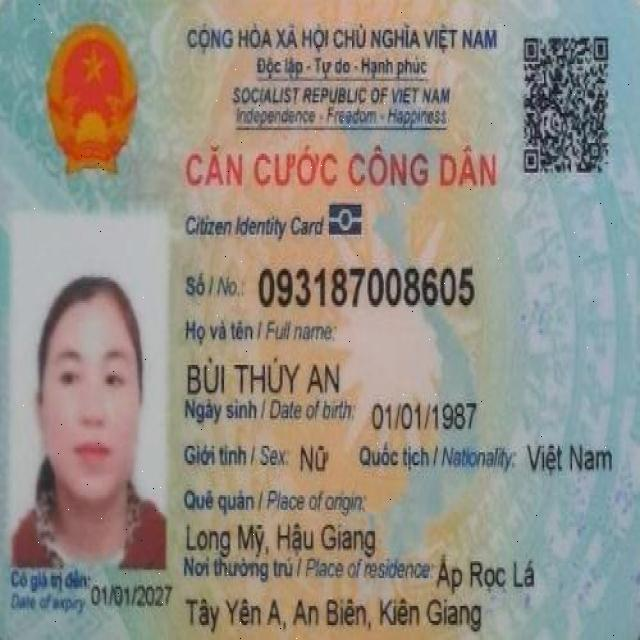current_place: (190, 582, 482, 630), (432, 550, 544, 594), (90, 578, 172, 614)
dob: (361, 396, 481, 440)
gender: (292, 439, 342, 476)
id: (253, 254, 477, 318)
name: (174, 350, 363, 402)
nationality: (524, 434, 618, 484)
origin_place: (174, 519, 384, 559)
